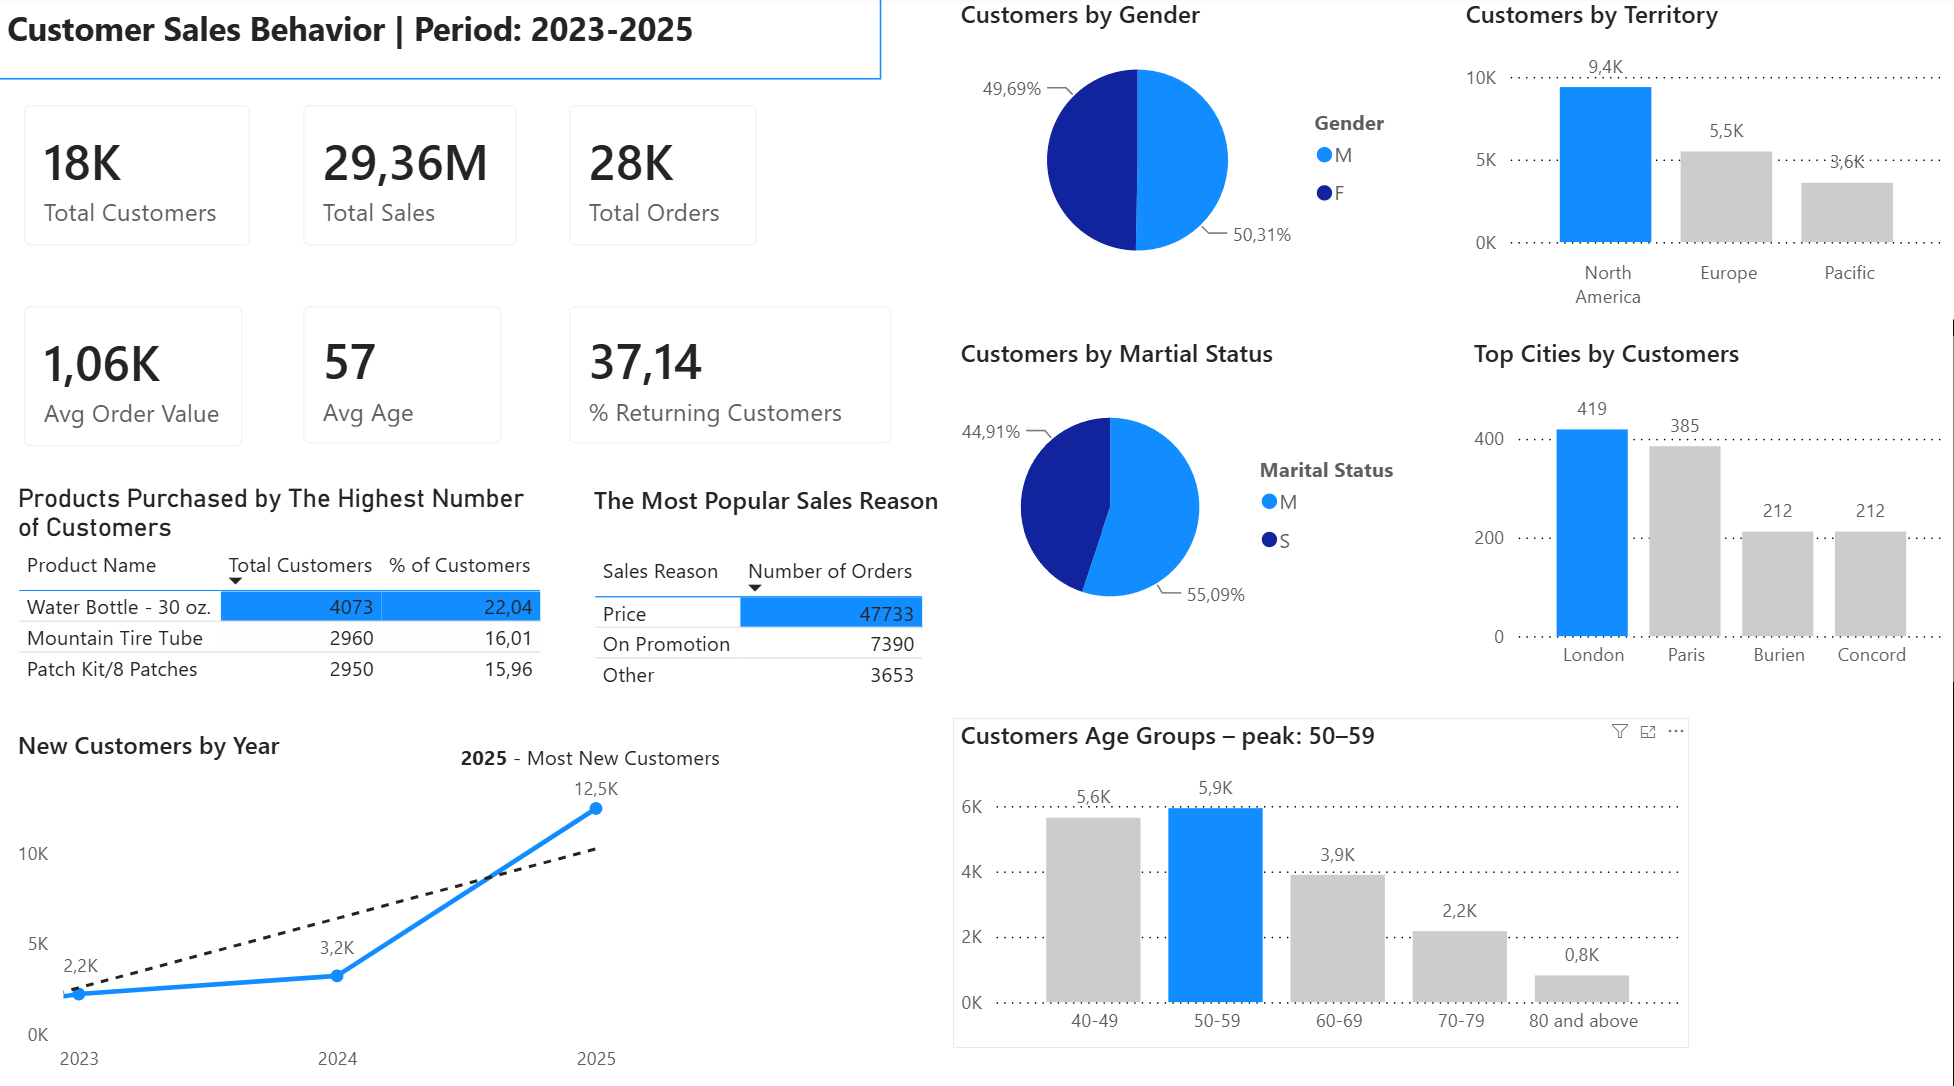

The dashboard page shown, as its layout file describes it:
{"tool":"powerbi","page":{"name":"Page 1","canvas":[1280,720],"ordinal":0},"visuals":[{"type":"textbox","box":[0,0,577.8,53.7],"z":0},{"type":"lineChart","title":"New Customers by Year","fields":{"Category":["customer.DateFirstPurchase.Variation.Date Hierarchy.Year"],"Y":["CountNonNull(customer.CustomerKey)"]},"box":[7.9,478.4,570,234.3],"z":0,"group":"g1"},{"type":"cardVisual","fields":{"Data":["internet_sales.Total Orders"]},"box":[356.6,53.7,157.1,127],"z":1000},{"type":"textbox","box":[297.6,483.4,191,26.9],"z":1000,"group":"g1"},{"type":"cardVisual","fields":{"Data":["internet_sales.Total Sales"]},"box":[182.6,53.7,174.1,127],"z":2000},{"type":"cardVisual","fields":{"Data":["customer.Total Customers"]},"box":[0,53.7,182.6,127],"z":3000},{"type":"pieChart","title":"Customers by Gender","fields":{"Category":["customer.Gender"],"Y":["CountNonNull(internet_sales.SalesOrderNumber)"]},"box":[624.9,0,307.6,192.4],"z":4000},{"type":"pieChart","title":"Customers by Martial Status","fields":{"Category":["customer.MaritalStatus"],"Y":["CountNonNull(internet_sales.SalesOrderNumber)"]},"box":[624.9,221.8,305.6,202.9],"z":5000},{"type":"columnChart","title":"Customers by Territory","fields":{"Category":["customer.SalesTerritoryGroup"],"Y":["CountNonNull(customer.CustomerKey)"]},"box":[955.4,0,324.6,211.4],"z":6000},{"type":"tableEx","title":"The Most Popular Sales Reason  ","fields":{"Values":["sales_reason.SalesReasonName","sales_reason.SalesOrderNumber"]},"box":[384.8,318,240.2,153.8],"z":7000},{"type":"group","id":"g1","title":"Group 1","box":[7.9,478.4,570,234.3],"z":8000},{"type":"cardVisual","fields":{"Data":["customer.Avg Age"]},"box":[182.6,185.2,164.9,125],"z":9000},{"type":"cardVisual","fields":{"Data":["internet_sales.Avg Order Value"]},"box":[0,185.2,177.3,127],"z":10000},{"type":"columnChart","title":"Customers Age Groups – peak: 50–59","fields":{"Category":["customer.Age Groups"],"Y":["CountNonNull(customer.CustomerKey)"]},"box":[624.9,471.8,481.6,216],"z":11000},{"type":"tableEx","title":"Products Purchased by The Highest Number of Customers","fields":{"Values":["product.EnglishProductName","customer.Total Customers","customer.% of Customers"]},"box":[7.9,318,356,149.2],"z":12000},{"type":"cardVisual","fields":{"Data":["customer.% Returning Customers"]},"box":[356.6,185.2,245.4,125],"z":13000},{"type":"clusteredColumnChart","title":"Top Cities by Customers","fields":{"Category":["customer.City"],"Y":["CountNonNull(customer.CustomerKey)"]},"box":[960.7,221.8,319.3,226.4],"z":14000}]}

Visuals, with their boxes in screenshot pixels (x1, y1, x2, y2), scaled from the page's 1280x720 canvas onto the 1954x1086 screenshot:
textbox: bbox(0, 0, 882, 81)
"New Customers by Year" lineChart: bbox(12, 722, 882, 1075)
cardVisual - internet_sales.Total Orders: bbox(544, 81, 784, 273)
textbox: bbox(454, 729, 746, 770)
cardVisual - internet_sales.Total Sales: bbox(279, 81, 545, 273)
cardVisual - customer.Total Customers: bbox(0, 81, 279, 273)
"Customers by Gender" pieChart: bbox(954, 0, 1424, 290)
"Customers by Martial Status" pieChart: bbox(954, 335, 1420, 641)
"Customers by Territory" columnChart: bbox(1458, 0, 1953, 319)
"The Most Popular Sales Reason  " tableEx: bbox(587, 480, 954, 712)
"Group 1" group: bbox(12, 722, 882, 1075)
cardVisual - customer.Avg Age: bbox(279, 279, 530, 468)
cardVisual - internet_sales.Avg Order Value: bbox(0, 279, 271, 471)
"Customers Age Groups – peak: 50–59" columnChart: bbox(954, 712, 1689, 1037)
"Products Purchased by The Highest Number of Customers" tableEx: bbox(12, 480, 556, 705)
cardVisual - customer.% Returning Customers: bbox(544, 279, 919, 468)
"Top Cities by Customers" clusteredColumnChart: bbox(1467, 335, 1953, 676)
